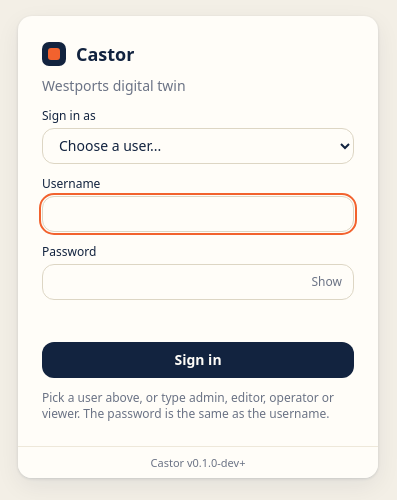
login page › demo login › selects the matching demo user when its name is typed
Type "viewer" into the field labelled "Username".
click(198, 214); type("viewer")  # box [42,196,354,232]
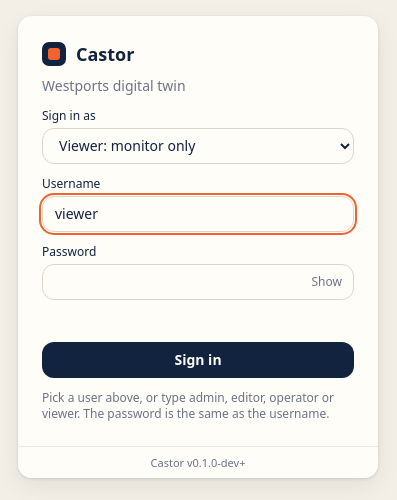
Result: the dropdown named "Choose a demo user" shows "Viewer: monitor only" at [42,128,354,164]
